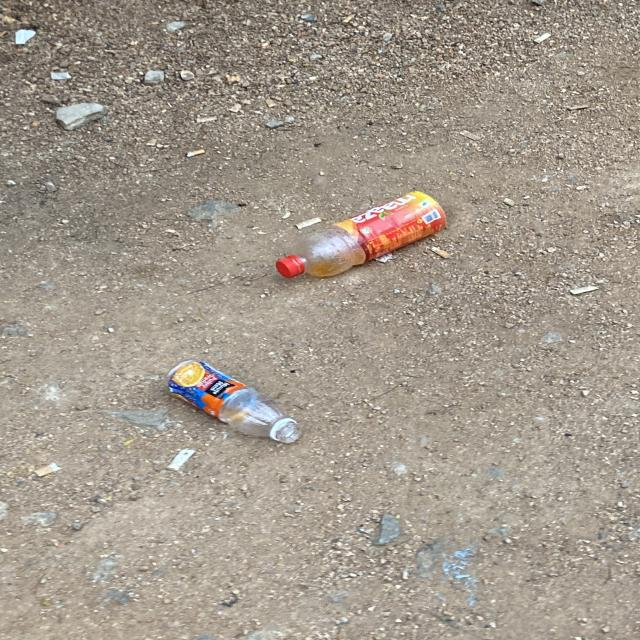chai_nhua: (276, 191, 446, 277), (167, 360, 301, 444)
giay_goi: (184, 371, 186, 373)
